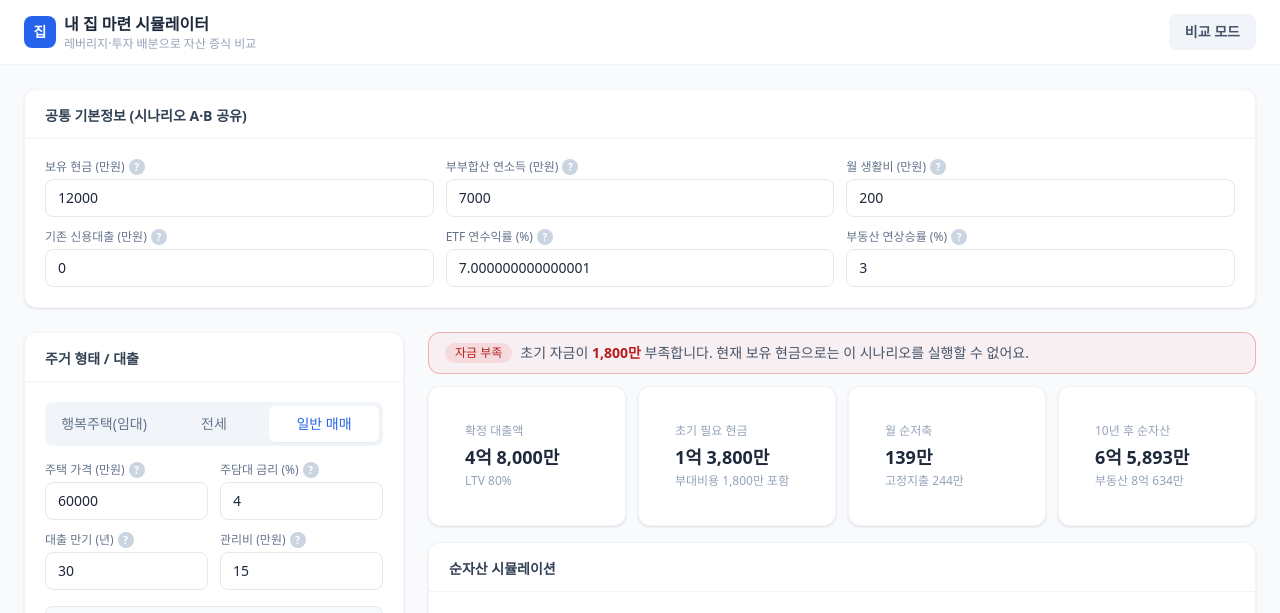
App 통합 렌더 › 주거 형태를 전세로 바꾸면 전세 입력 필드가 나타난다
The width and height of the screenshot is (1280, 613).
What coordinates should you click on to do the following:
click the button "전세"
I would click on:
 (214, 424)
Its box is 159,406 -> 269,442.
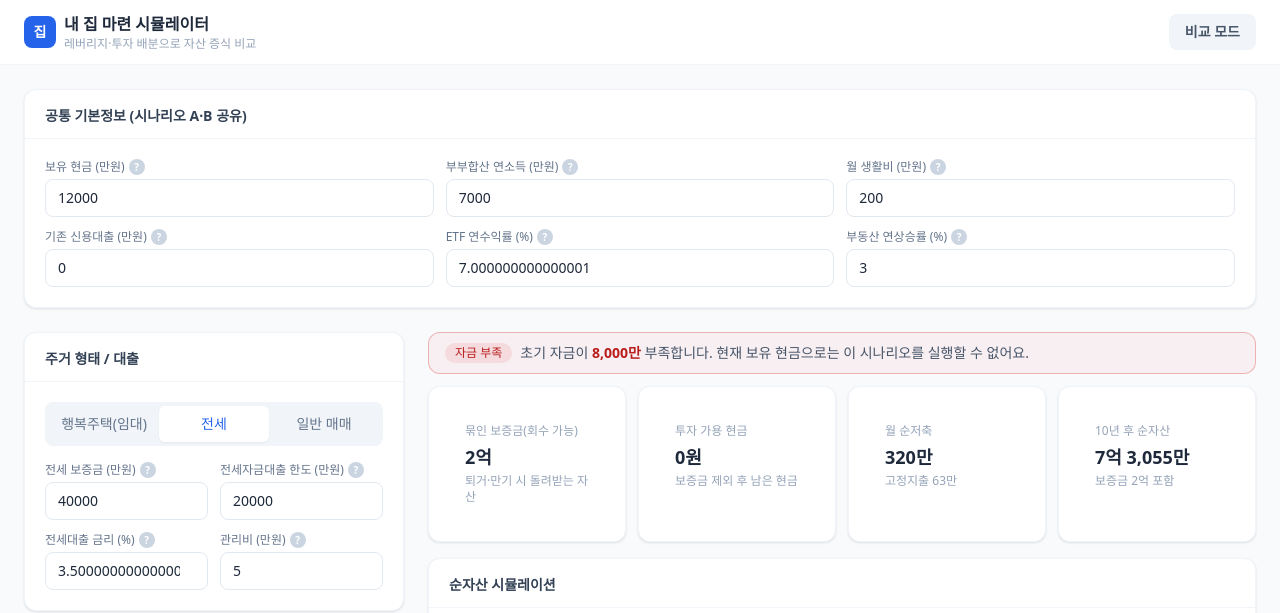
Expected: the text "전세 보증금 (만원)" is shown, 45,461 -> 136,478
